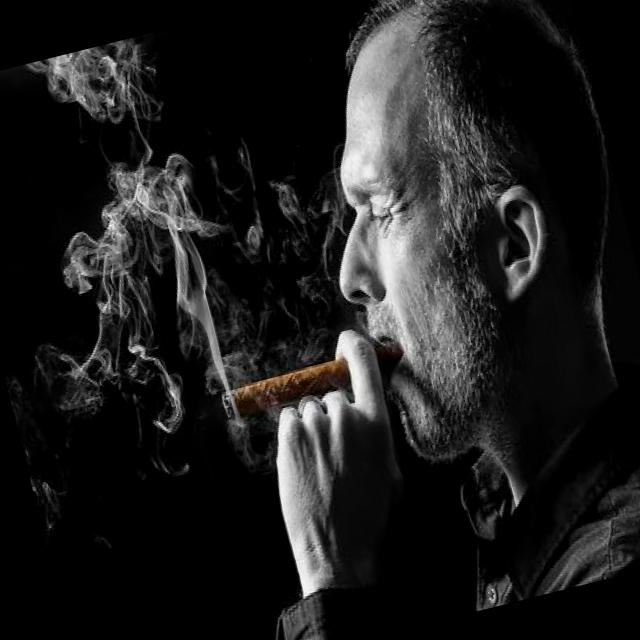smoke: (217, 338, 408, 428)
